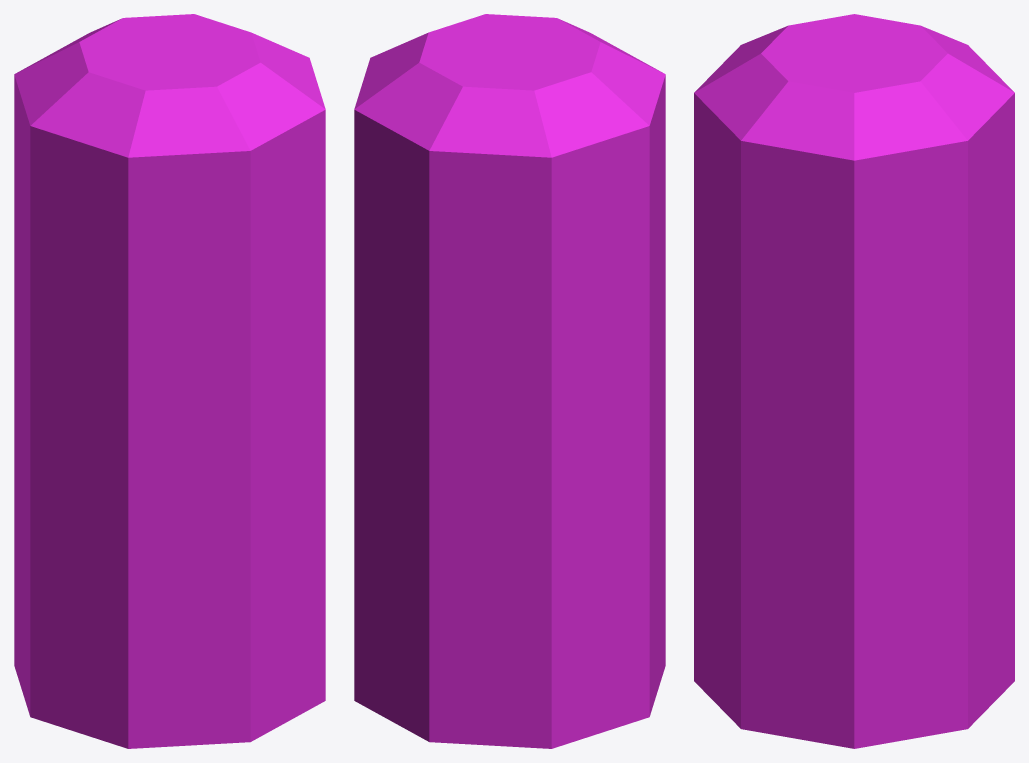
File: crystal_2.fbx
3 renders of one model, left to right at view 1: azimuth 30°, elevation 25°; view 2: azimuth 150°, elevation 25°; view 3: azimuth 270°, elevation 25°, orthographic.
Parts seen in each view (by area): view 1: Cylinder; view 2: Cylinder; view 3: Cylinder.
Boxes of the visible parts, <box> form: Cylinder: <box>14,14,325,748</box>; Cylinder: <box>354,14,665,748</box>; Cylinder: <box>694,14,1014,748</box>.
Size of the model in its own units: 100 by 216 by 100.
